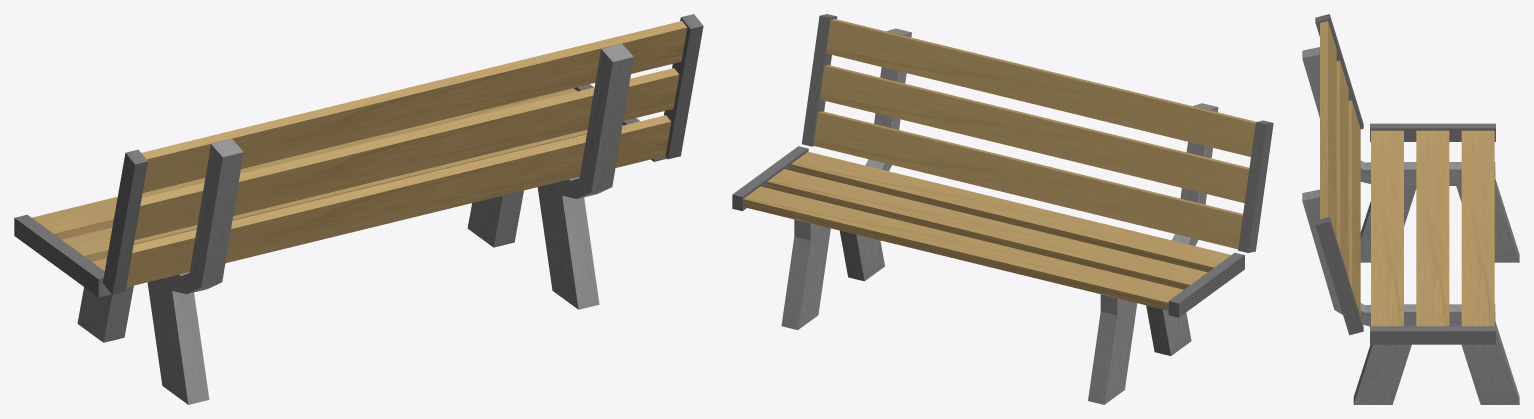
File: Bench.fbx
The picture shows the model from 3 angles, left to right: view 1: azimuth 30°, elevation 25°; view 2: azimuth 150°, elevation 25°; view 3: azimuth 270°, elevation 25°; orthographic projection. The views are drawn at different scales.
Visible parts, largest first — view 1: Cube.004, Cube.005, Cube.003, Cube.010, Cube.011, Cube.002, Cube.009, Cube, Cube.007, Cube.008; view 2: Cube.004, Cube.003, Cube.005, Cube.002, Cube.001, Cube, Cube.010, Cube.011, Cube.009, Cube.008, Cube.007, Cube.006; view 3: Cube.010, Cube, Cube.002, Cube.001, Cube.011, Cube.004, Cube.003, Cube.005, Cube.006, Cube.008, Cube.007, Cube.009.
Part boxes in pixels (x1=…): Cube.004: x1=141, y1=21, x2=687, y2=192; Cube.005: x1=126, y1=115, x2=671, y2=287; Cube.003: x1=134, y1=68, x2=679, y2=240; Cube.010: x1=467, y1=43, x2=633, y2=309; Cube.011: x1=77, y1=139, x2=243, y2=404; Cube.002: x1=32, y1=88, x2=577, y2=239; Cube.009: x1=103, y1=149, x2=147, y2=294; Cube: x1=62, y1=124, x2=622, y2=261; Cube.007: x1=14, y1=214, x2=111, y2=297; Cube.008: x1=664, y1=14, x2=703, y2=159; Cube.004: x1=826, y1=19, x2=1256, y2=156; Cube.003: x1=820, y1=65, x2=1249, y2=203; Cube.005: x1=813, y1=111, x2=1242, y2=249; Cube.002: x1=743, y1=186, x2=1183, y2=310; Cube.001: x1=790, y1=151, x2=1230, y2=272; Cube: x1=767, y1=169, x2=1207, y2=289; Cube.010: x1=781, y1=28, x2=911, y2=329; Cube.011: x1=1088, y1=103, x2=1218, y2=404; Cube.009: x1=1238, y1=120, x2=1273, y2=252; Cube.008: x1=801, y1=14, x2=837, y2=146; Cube.007: x1=1168, y1=252, x2=1244, y2=317; Cube.006: x1=732, y1=146, x2=808, y2=210; Cube.010: x1=1302, y1=189, x2=1519, y2=404; Cube: x1=1416, y1=130, x2=1449, y2=326; Cube.002: x1=1461, y1=130, x2=1494, y2=326; Cube.001: x1=1371, y1=130, x2=1403, y2=326; Cube.011: x1=1302, y1=47, x2=1519, y2=262; Cube.004: x1=1320, y1=21, x2=1336, y2=238; Cube.003: x1=1336, y1=60, x2=1348, y2=277; Cube.005: x1=1348, y1=100, x2=1360, y2=316; Cube.006: x1=1370, y1=326, x2=1495, y2=344; Cube.008: x1=1315, y1=217, x2=1363, y2=335; Cube.007: x1=1370, y1=123, x2=1495, y2=141; Cube.009: x1=1315, y1=14, x2=1363, y2=129.
Size of the model in its own units: 1627 by 774 by 720.
